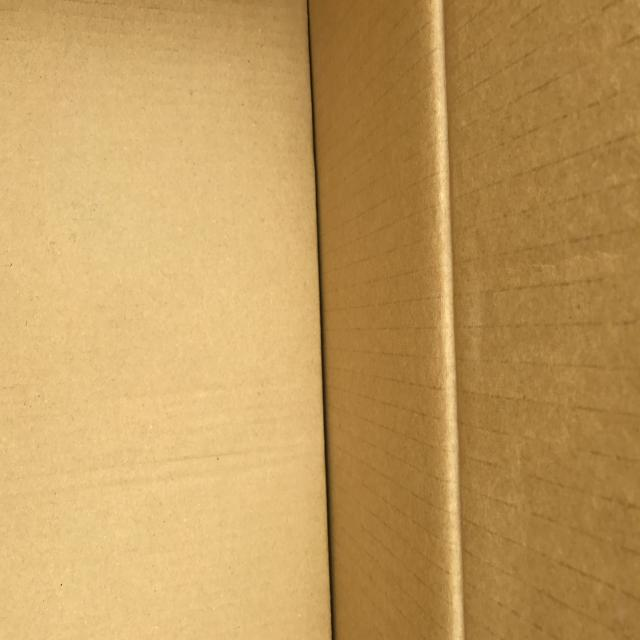cardboard: (0, 0, 333, 640), (308, 0, 640, 640)
